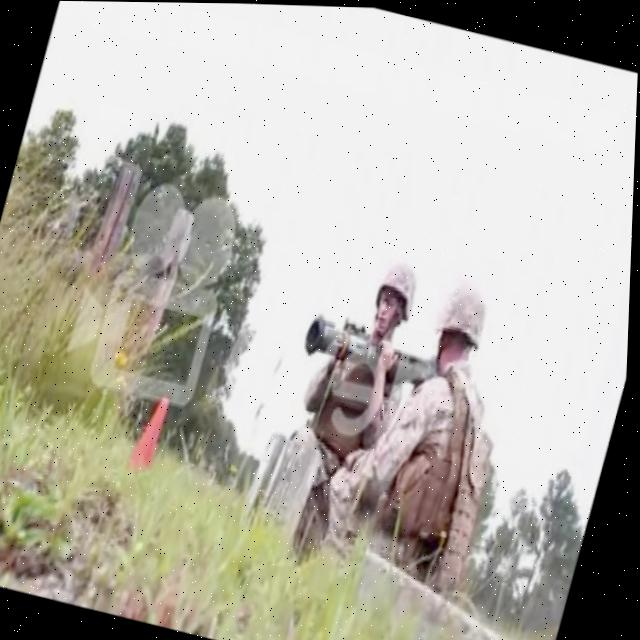rocket: (303, 312, 443, 384)
